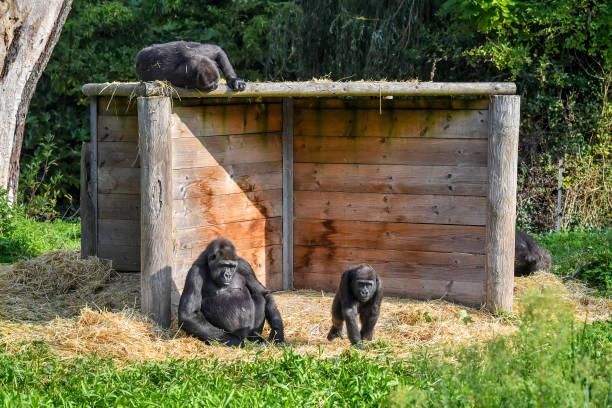gorille_Autres: (164, 234, 294, 362), (326, 234, 408, 378)
